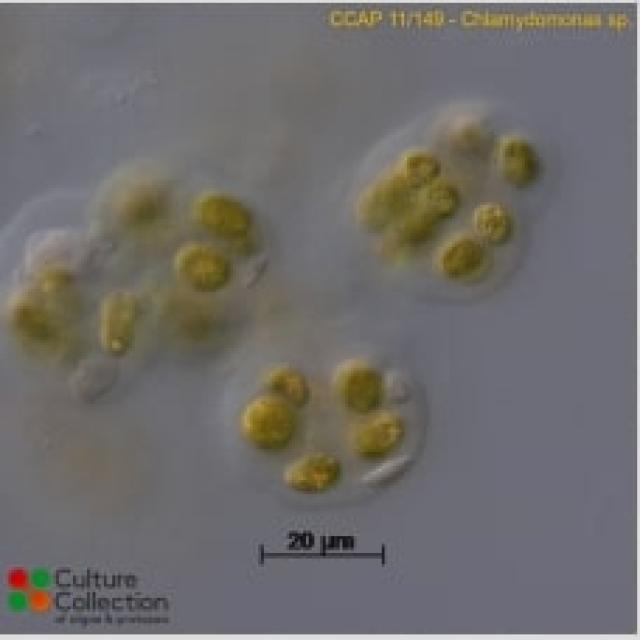Green Algae: (326, 351, 388, 407), (171, 244, 233, 289), (497, 138, 544, 196), (197, 194, 256, 238), (241, 399, 295, 446), (278, 455, 342, 494), (101, 292, 138, 356), (438, 236, 486, 283), (351, 415, 404, 455), (477, 205, 514, 244), (398, 149, 441, 182), (421, 182, 463, 214)
